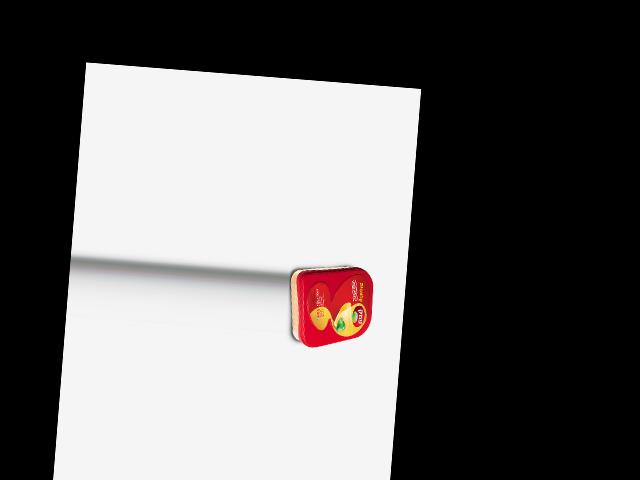cheese: (285, 261, 375, 352)
